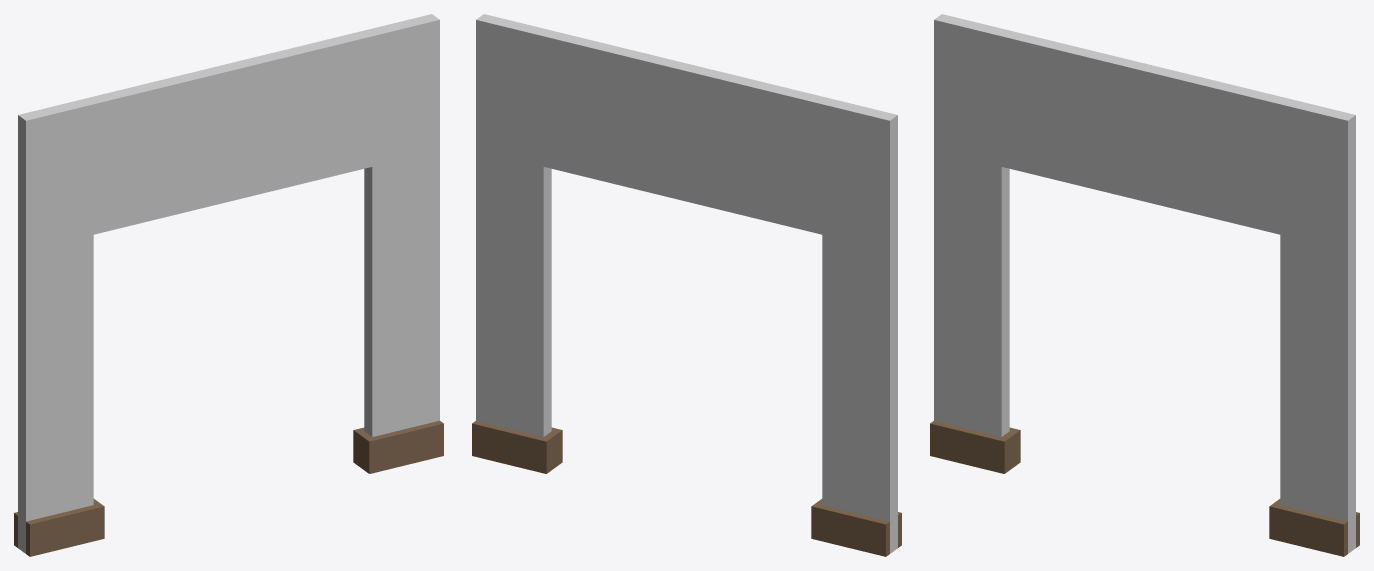
File: Mesh_WallBaseboard_H5.fbx
3 views of the same model, side by side, from view 1: azimuth 30°, elevation 25°; view 2: azimuth 150°, elevation 25°; view 3: azimuth 330°, elevation 25° (orthographic).
Visible parts, largest first — view 1: Mesh_WallBaseboard_H5; view 2: Mesh_WallBaseboard_H5; view 3: Mesh_WallBaseboard_H5.
Boxes of the visible parts, bbox=[...] form: Mesh_WallBaseboard_H5: bbox=[14, 14, 443, 556]; Mesh_WallBaseboard_H5: bbox=[472, 14, 901, 556]; Mesh_WallBaseboard_H5: bbox=[930, 14, 1359, 556].
Size of the model in its own units: 3 by 3 by 0.2.
